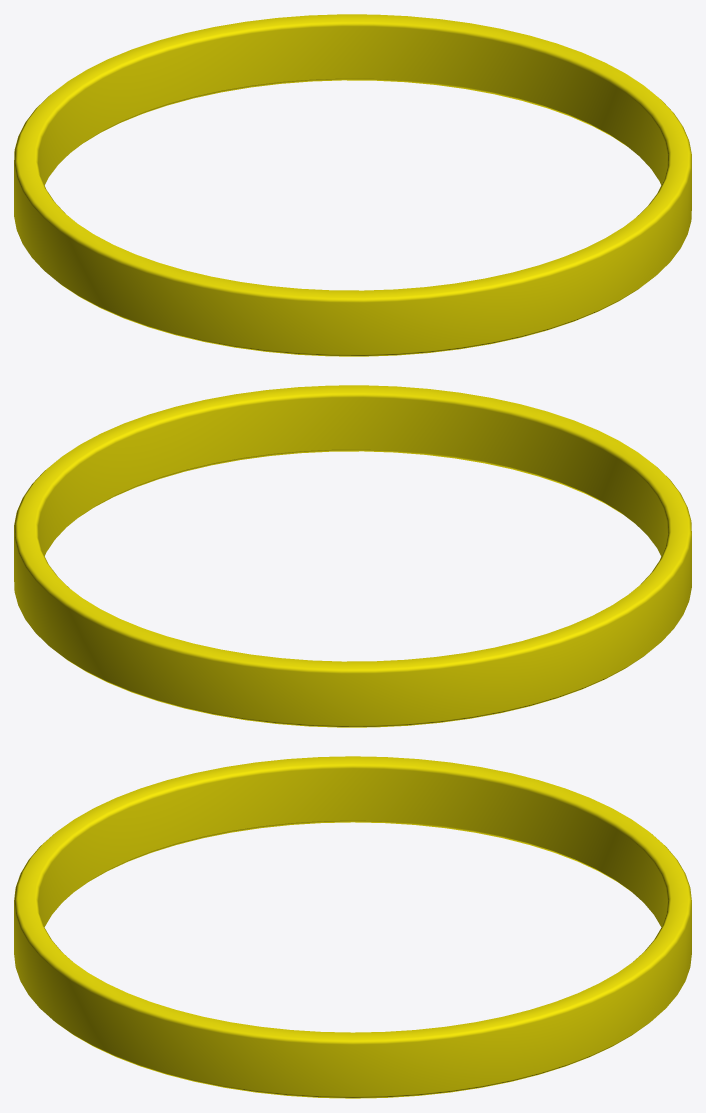
The picture shows the model from 3 angles, top to bottom: view 1: azimuth 30°, elevation 25°; view 2: azimuth 150°, elevation 25°; view 3: azimuth 270°, elevation 25°; orthographic projection.
Visible parts, largest first — view 1: seal_body; view 2: seal_body; view 3: seal_body.
Boxes of the visible parts, box(x1,y1,x2,y2) form: seal_body: box(14, 14, 691, 356); seal_body: box(14, 385, 691, 727); seal_body: box(14, 756, 691, 1098).
Bounding box in the file's own units: 0.0416 × 0.004 × 0.0416.
